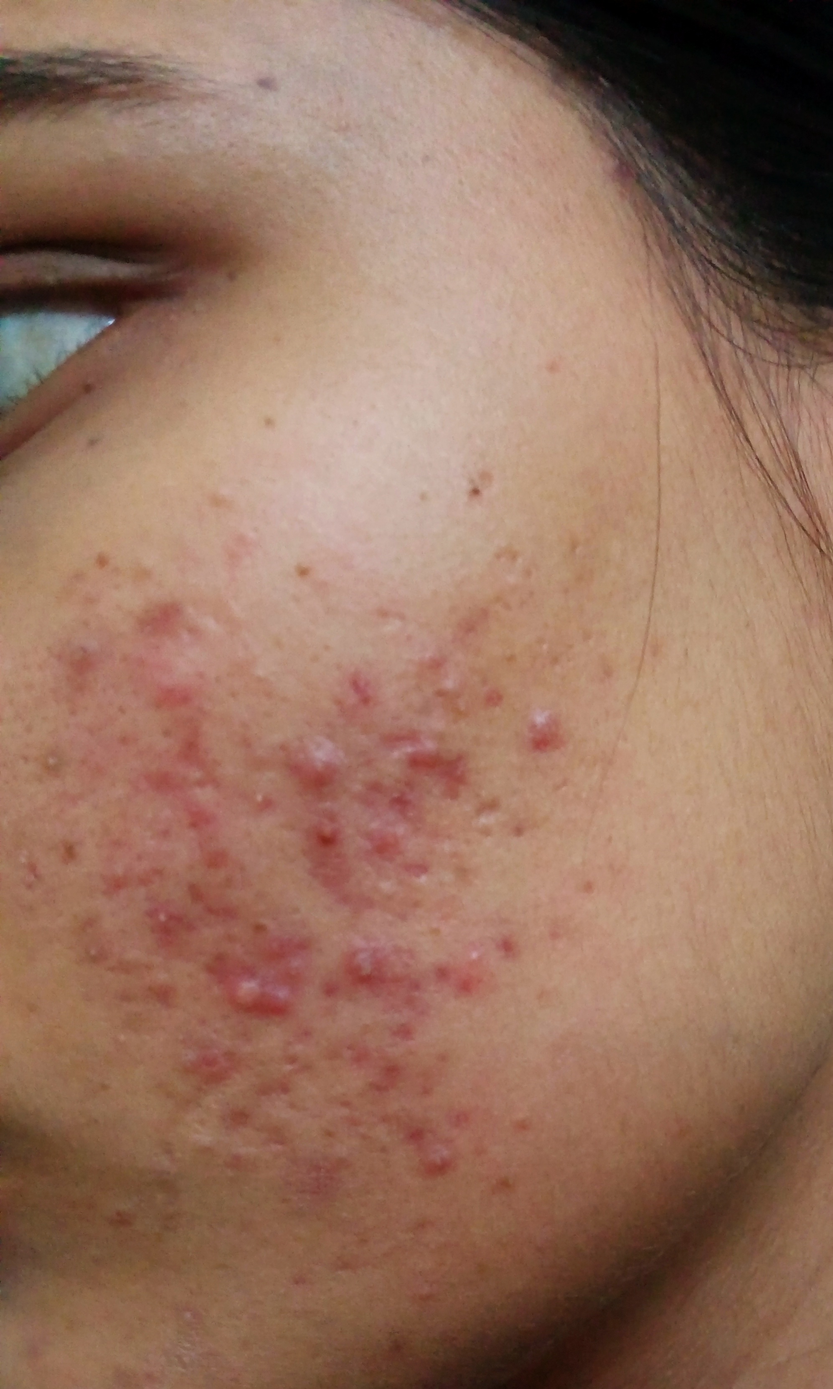papule: (384, 1106, 499, 1191), (433, 936, 524, 1021), (181, 771, 252, 858), (396, 712, 458, 799), (149, 640, 206, 732), (339, 920, 403, 998)
pustule: (508, 689, 595, 778), (220, 955, 311, 1032), (139, 865, 190, 943), (279, 728, 350, 783)
